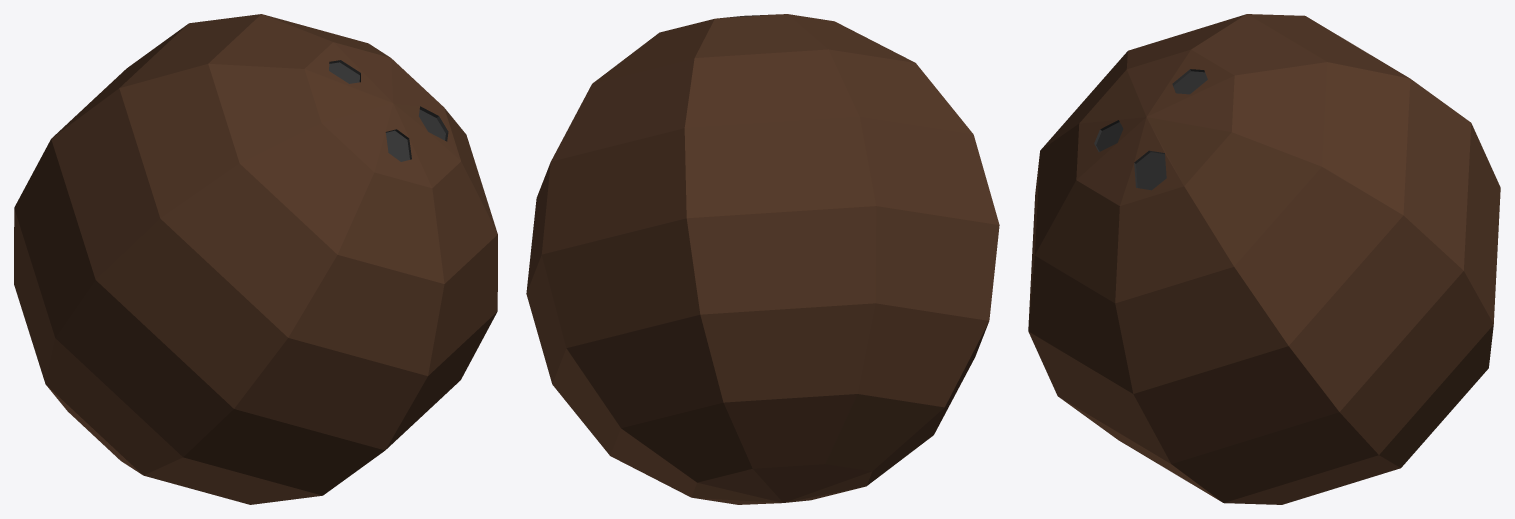
File: SM_Coconut_01.fbx
The picture shows the model from 3 angles, left to right: view 1: azimuth 30°, elevation 25°; view 2: azimuth 150°, elevation 25°; view 3: azimuth 270°, elevation 25°; orthographic projection.
Parts seen in each view (by area): view 1: Cocnut.002; view 2: Cocnut.002; view 3: Cocnut.002.
Boxes of the visible parts, left/top/right/bottom form: Cocnut.002: left=14, top=14, right=497, bottom=504; Cocnut.002: left=526, top=14, right=999, bottom=504; Cocnut.002: left=1028, top=14, right=1500, bottom=504.
Bounding box in the file's own units: 29.76 × 28.86 × 28.39.
